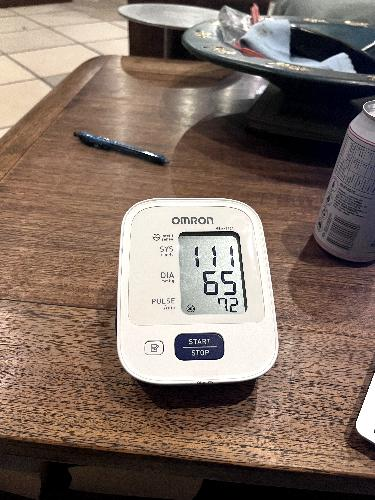bpm: (177, 228, 249, 315)
